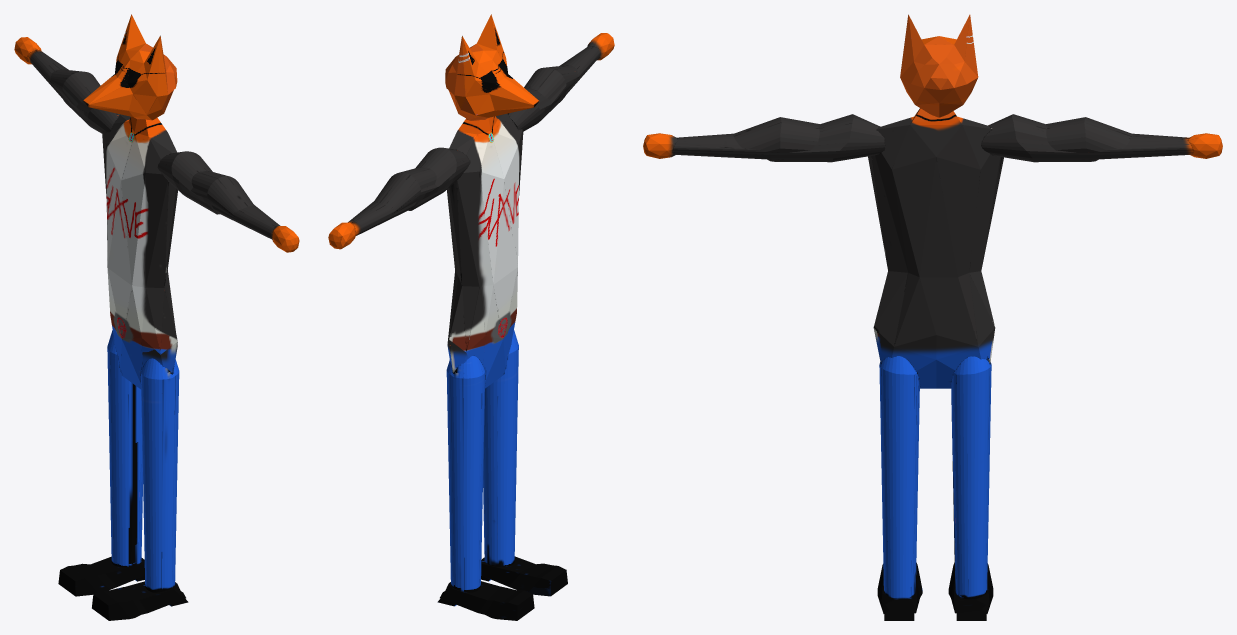
File: fox_v1.fbx
The picture shows the model from 3 angles, left to right: view 1: azimuth 30°, elevation 25°; view 2: azimuth 150°, elevation 25°; view 3: azimuth 270°, elevation 25°; orthographic projection. The views are drawn at different scales.
Parts seen in each view (by area): view 1: Cube.001; view 2: Cube.001; view 3: Cube.001.
Boxes of the visible parts, <box> form: Cube.001: <box>14,14,299,620</box>; Cube.001: <box>328,14,614,620</box>; Cube.001: <box>643,14,1222,620</box>.
Size of the model in its own units: 94.57 by 552 by 485.
1 material, 1 textured.
